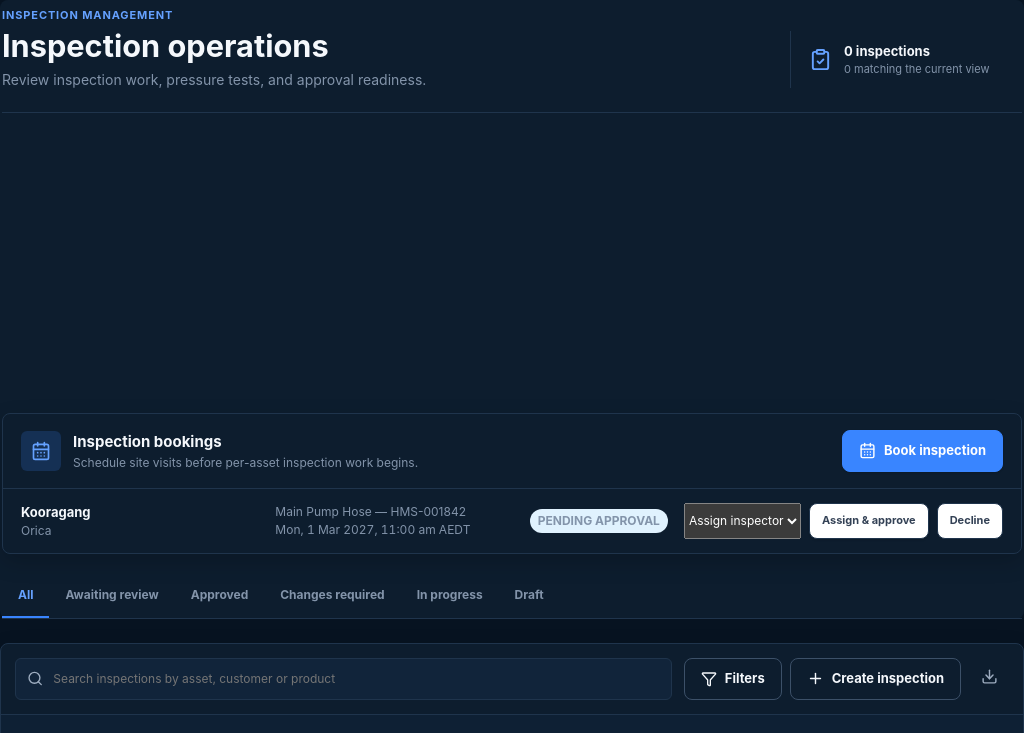
Inspection bookings › says an inspector is needed instead of sending, then shows a business conflict without stale-edit wording
Check: the text "Kooragang" is shown, box [21,504,90,520]
Step 1. Click the button "Assign & approve" → {"x": 869, "y": 520}, box [809,502,929,538]
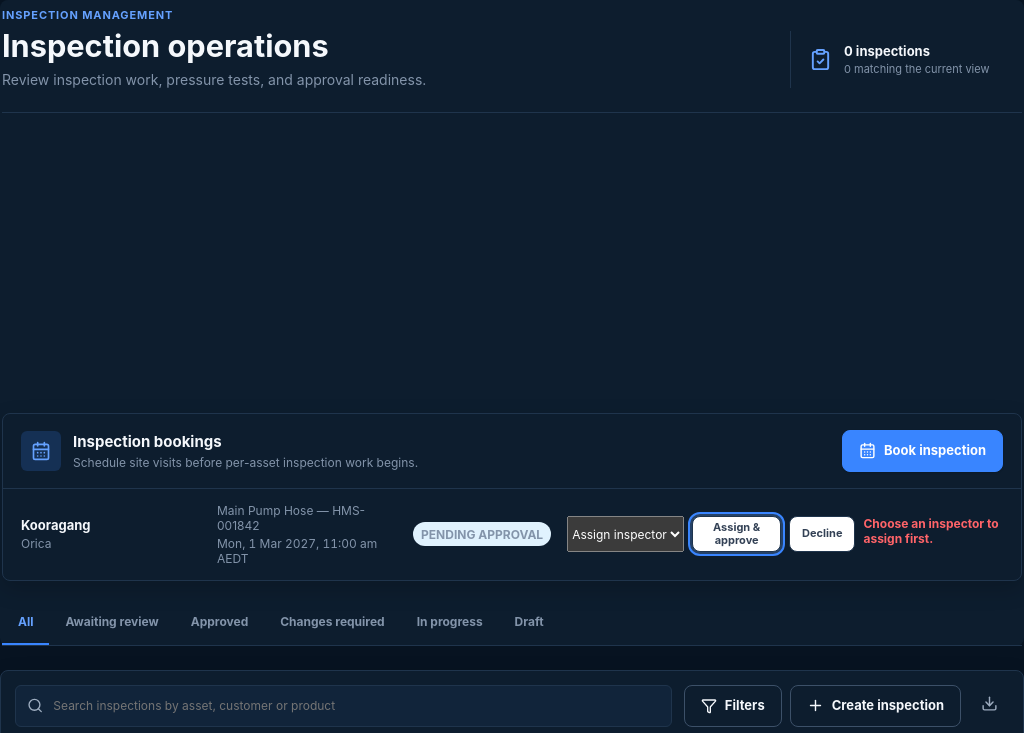
Check: the message reads "Choose an inspector to assign first.", box [864,516,999,546]
Step 2. Select "Ben Brook" in the dropdown named "Assign inspector for Kooragang" → {"x": 626, "y": 534}, box [567,516,684,552]
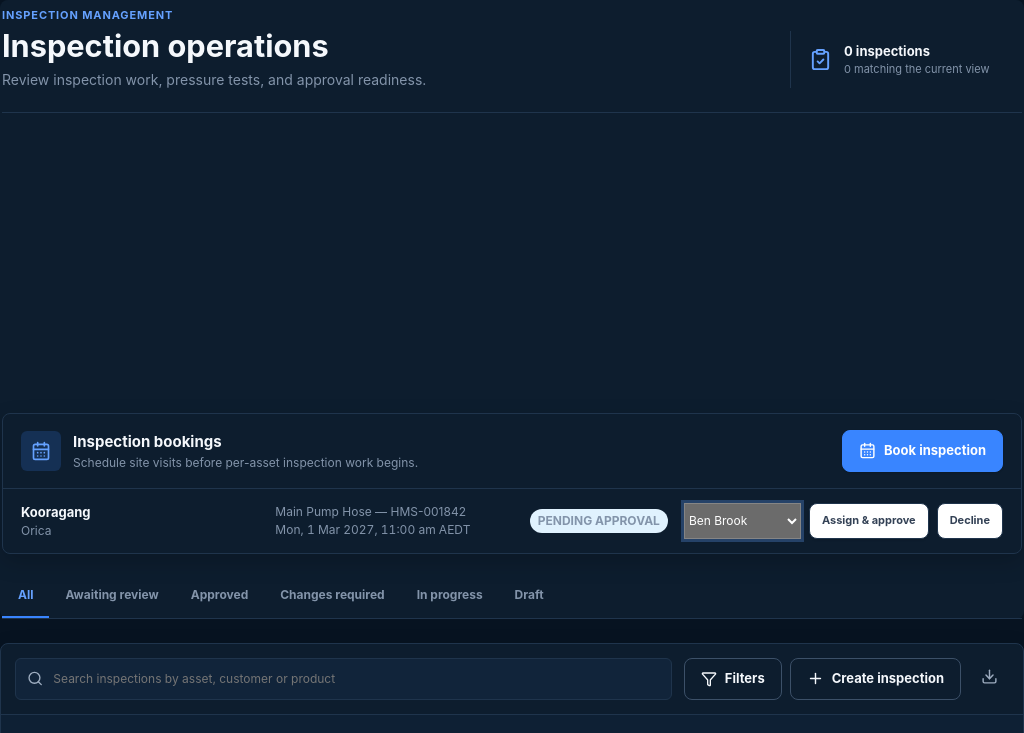
Step 3. Click the button "Assign & approve" → {"x": 869, "y": 520}, box [809,502,929,538]
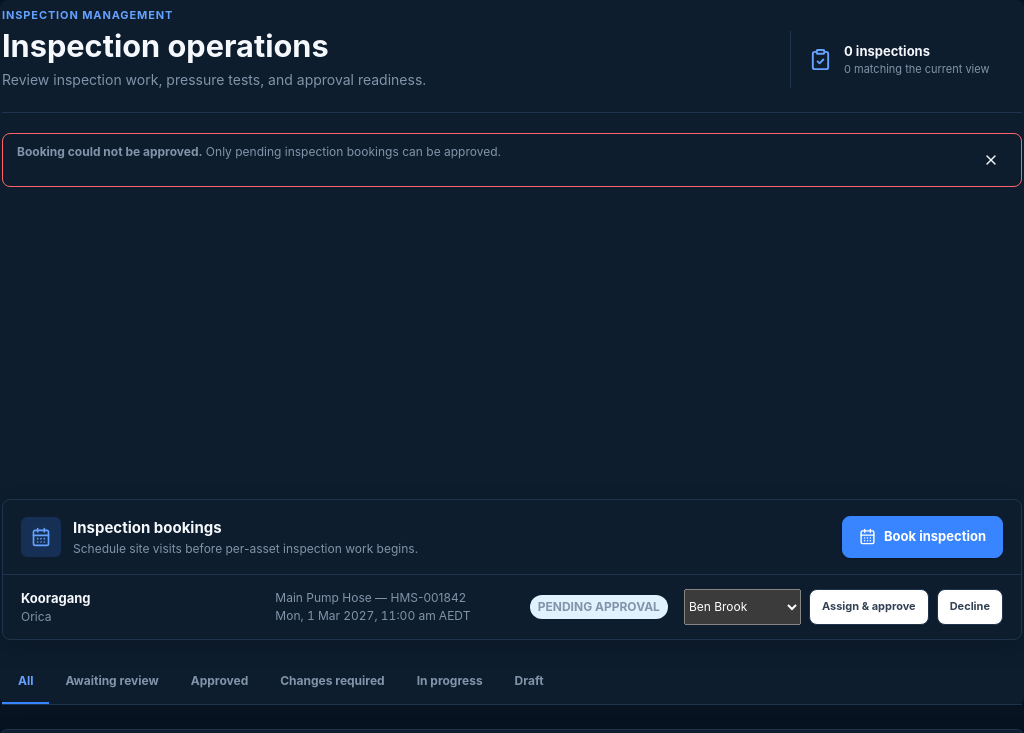
Check: the text "Only pending inspection bookings can be approved." does not show "someone else", box [2,132,1022,186]
Check: the text "Only pending inspection bookings can be approved." is shown, box [206,144,501,158]
